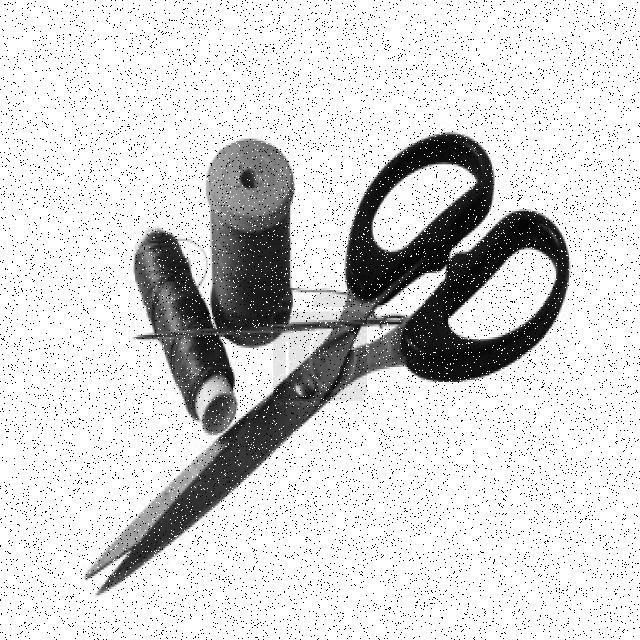scissors: (63, 113, 574, 602)
